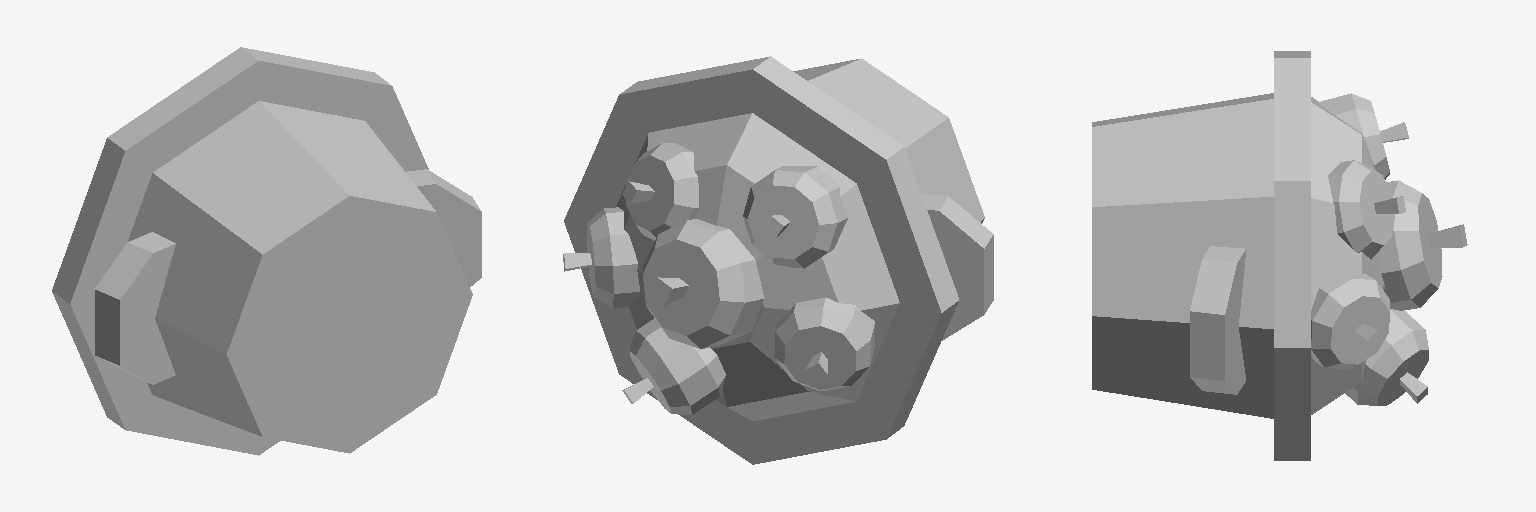
File: display-fruit_w1_p100@object.obj
The picture shows the model from 3 angles: view 1: azimuth 30°, elevation 25°; view 2: azimuth 150°, elevation 25°; view 3: azimuth 270°, elevation 25°; orthographic projection.
Parts seen in each view (by area): view 1: display-fruit; view 2: display-fruit; view 3: display-fruit.
Boxes of the visible parts, x1=… form: display-fruit: x1=52, y1=47, x2=481, y2=455; display-fruit: x1=563, y1=56, x2=993, y2=464; display-fruit: x1=1092, y1=51, x2=1467, y2=460.
Size of the model in its own units: 0.6 by 0.6 by 0.516.